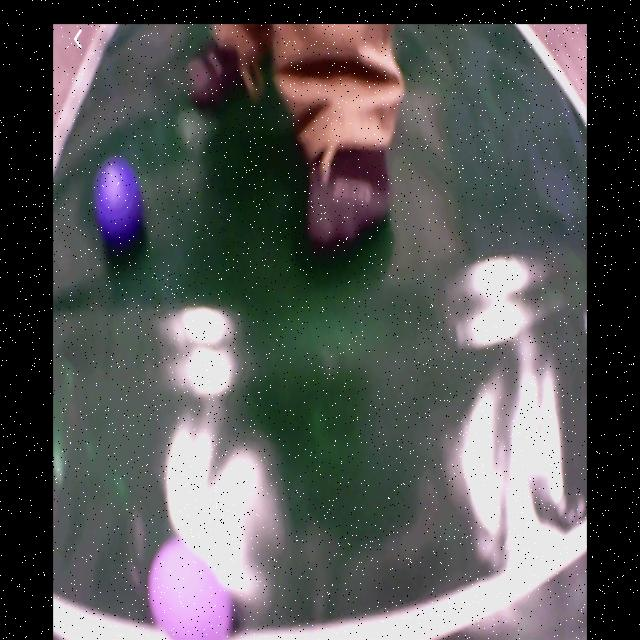ball: (148, 540, 236, 640), (93, 161, 146, 252)
